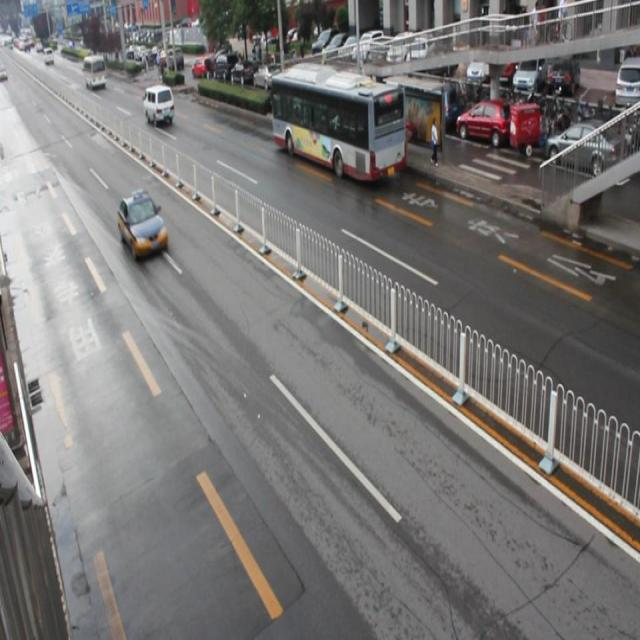car: (118, 192, 166, 254)
truck: (143, 85, 174, 125)
van: (271, 75, 406, 179)
